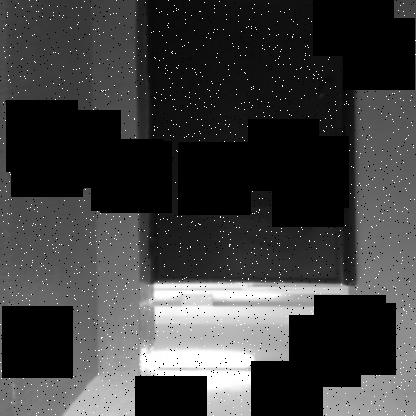Porte: (133, 0, 361, 288)
